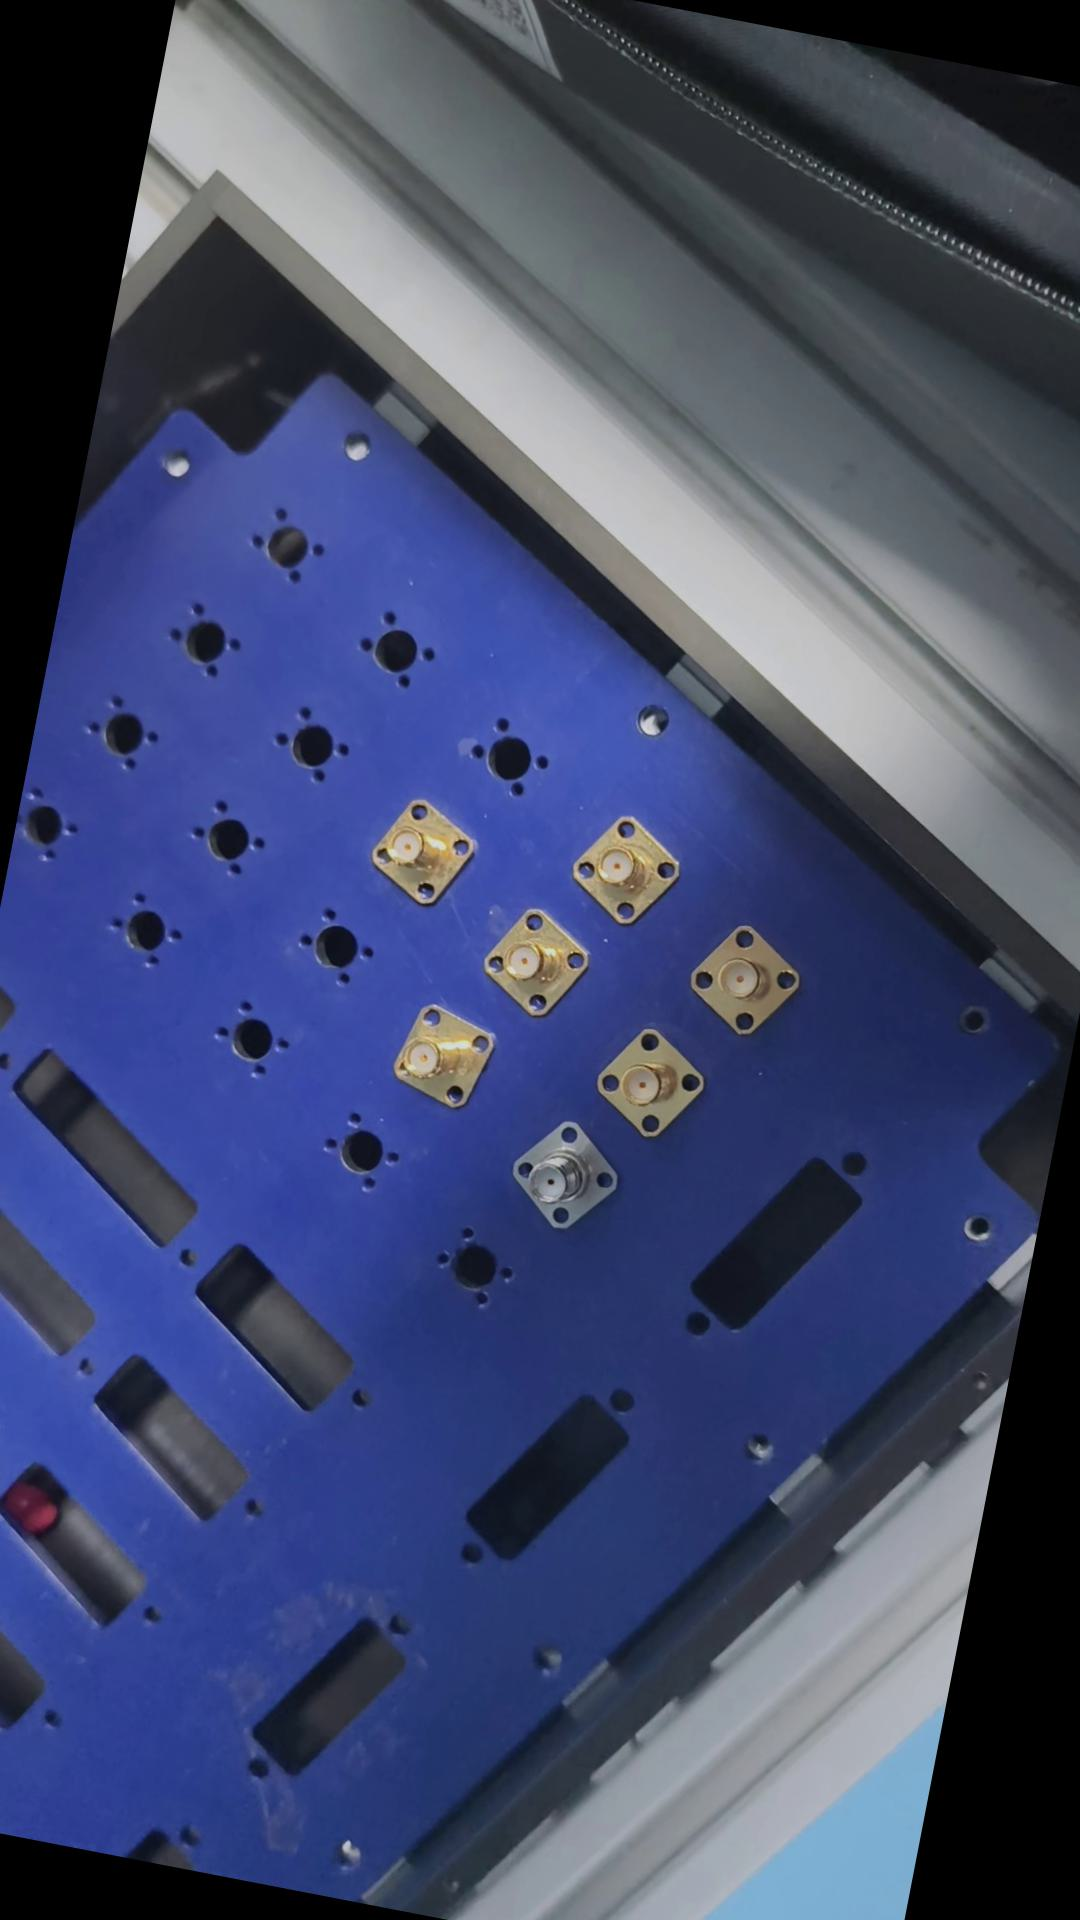SMA: (496, 1102, 629, 1244), (580, 1011, 716, 1145), (560, 796, 686, 931), (682, 915, 808, 1040), (368, 1000, 500, 1116), (473, 899, 595, 1023), (363, 785, 479, 905)
